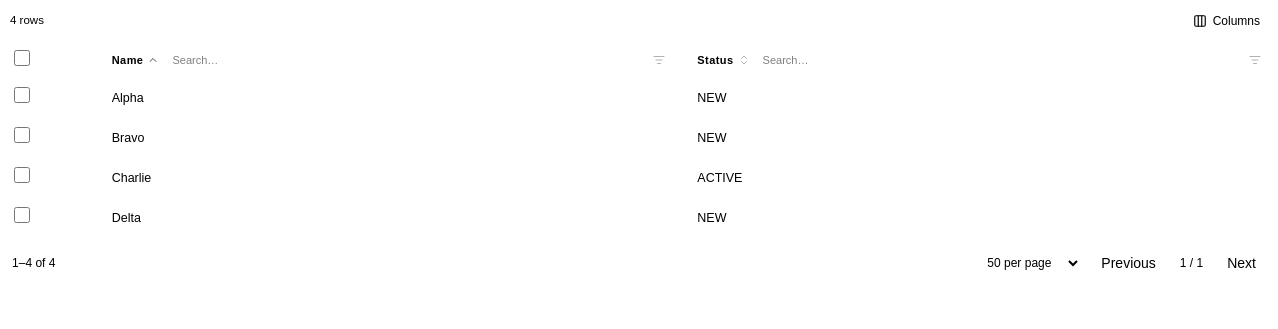
Test case: DataTable selection + bulk edit › shift-click selects the whole range in rendered order
Click the checkbox named "Select row" next to "Alpha".
click(22, 95)  # box [14,87,30,103]
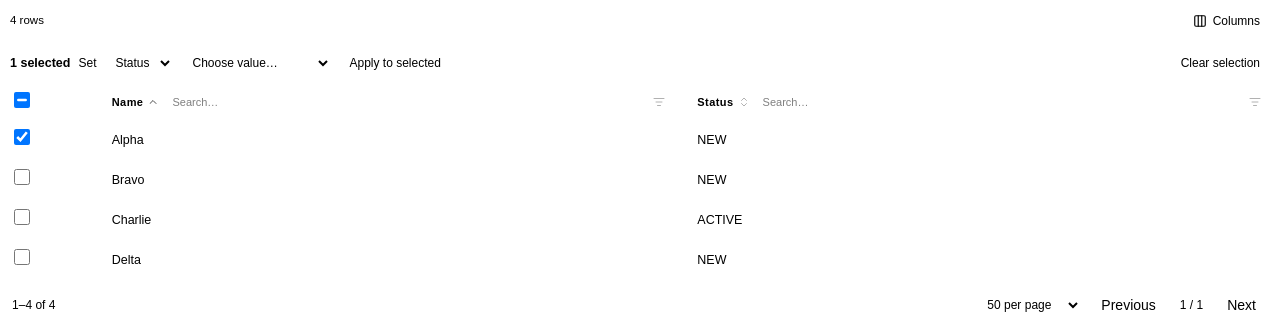
Click the checkbox named "Select row" next to "Delta".
click(22, 257)  # box [14,249,30,265]
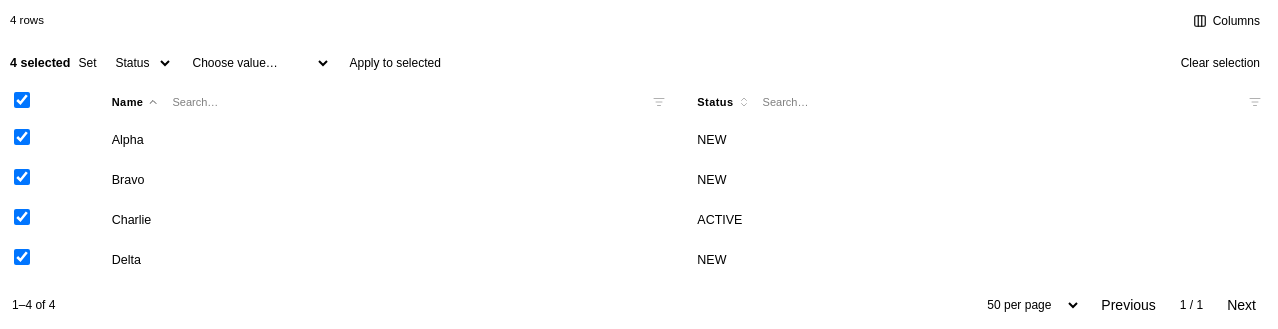
Expected: the text "4 selected" is shown, [10,54,70,72]
